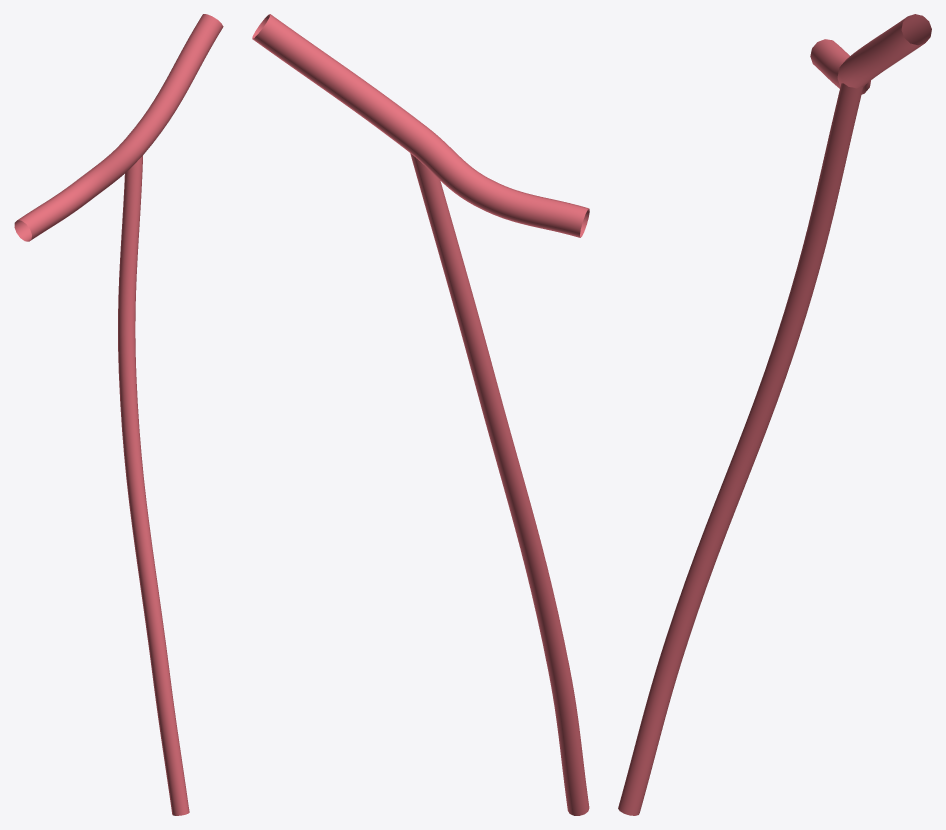
The picture shows the model from 3 angles, left to right: view 1: azimuth 30°, elevation 25°; view 2: azimuth 150°, elevation 25°; view 3: azimuth 270°, elevation 25°; orthographic projection. The views are drawn at different scales.
Parts seen in each view (by area): view 1: ZA_8046a0043a6a6065; view 2: ZA_8046a0043a6a6065; view 3: ZA_8046a0043a6a6065.
Boxes of the visible parts, x1,y1,x2,y2 form: ZA_8046a0043a6a6065: [14, 14, 223, 815]; ZA_8046a0043a6a6065: [252, 14, 589, 815]; ZA_8046a0043a6a6065: [618, 14, 931, 815].
Bounding box in the file's own units: 0.0403 × 0.1125 × 0.0362.
